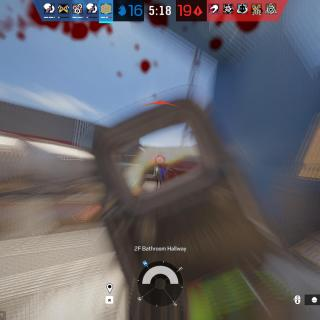Character: (154, 158, 166, 188)
